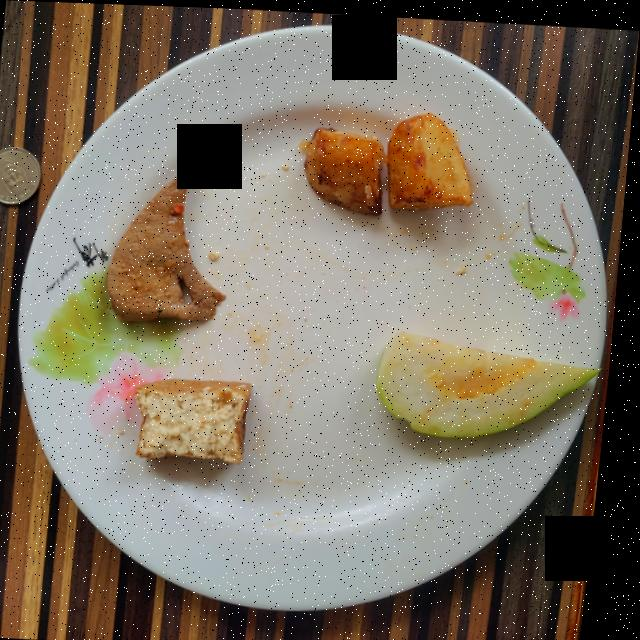coin: (0, 145, 44, 203)
egg tofu: (142, 376, 258, 460)
fried potato: (302, 109, 476, 211)
guava -sliced-: (383, 327, 606, 433)
pig liver: (112, 164, 230, 319)
